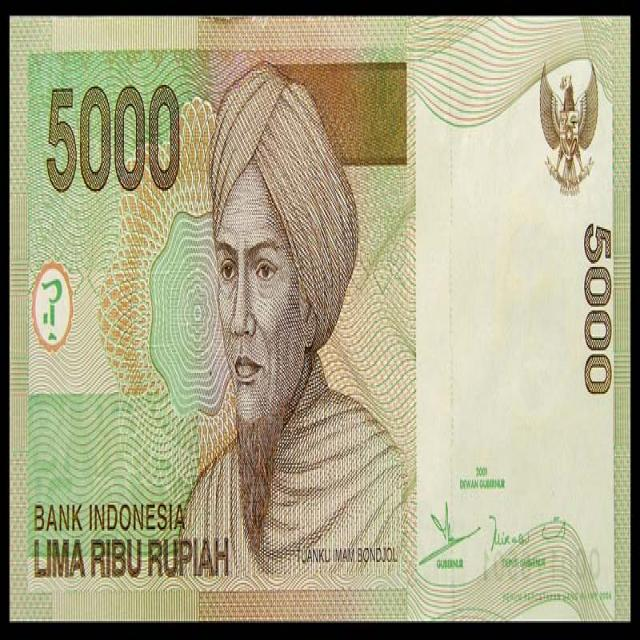lima ribu rupiah: (9, 11, 632, 624)
